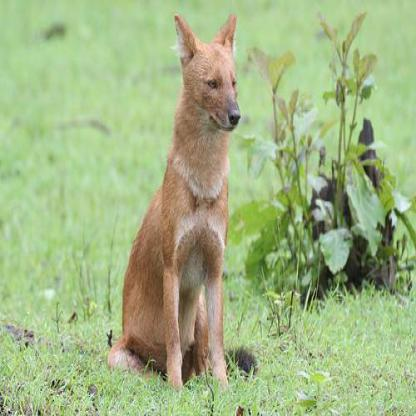dhole: (107, 13, 256, 388)
